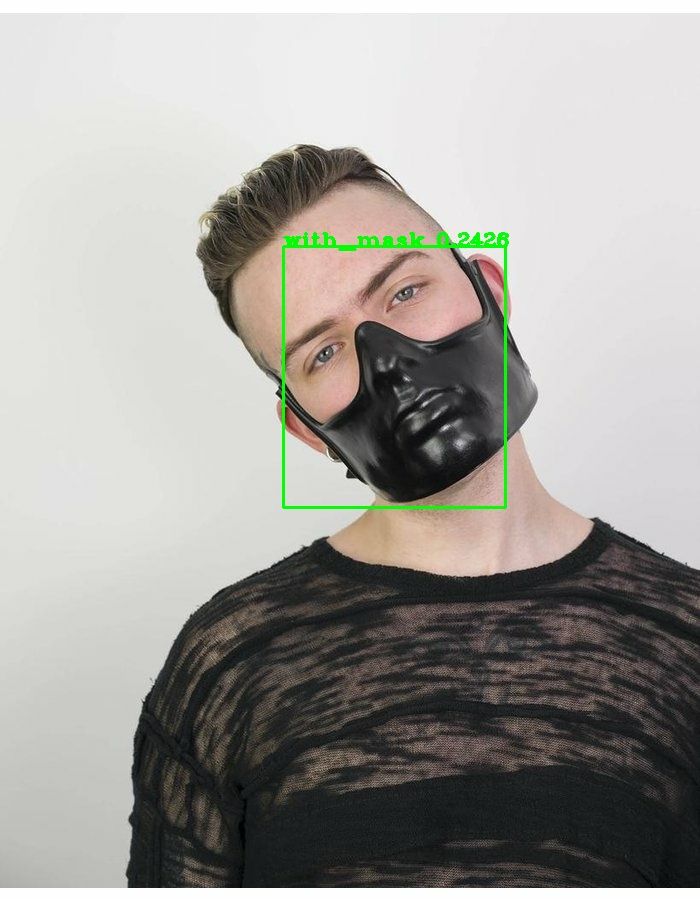with_mask: (198, 188, 552, 540)
